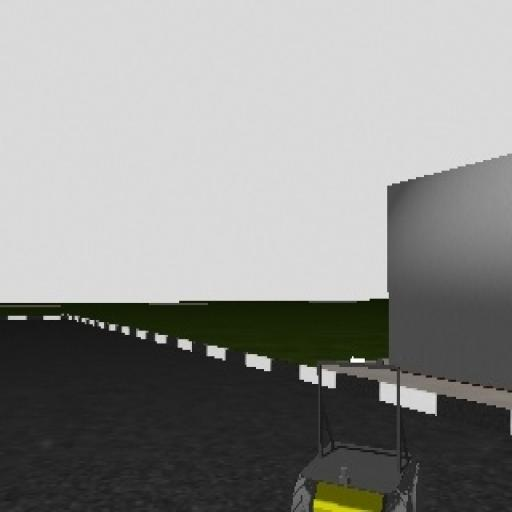huskya200: (274, 344, 418, 512)
